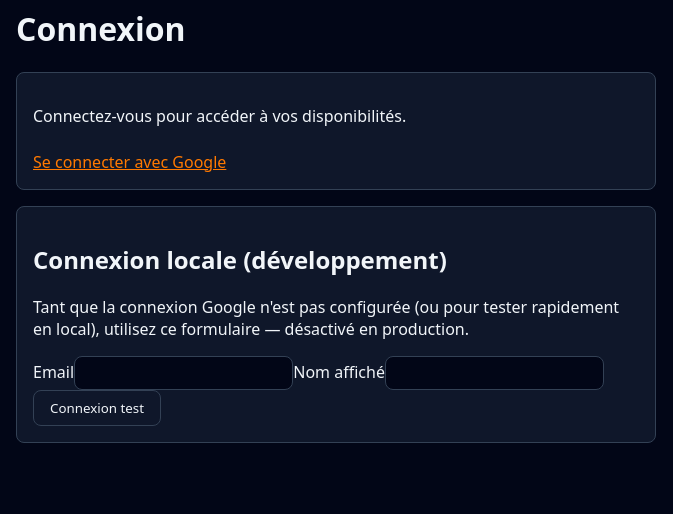
Test case: LoginPage › affiche un message d'erreur quand devLogin rejette
The width and height of the screenshot is (673, 514).
Type "joueur@example.com" into the field labelled "Email" at (184, 373), box [74,356,293,390]
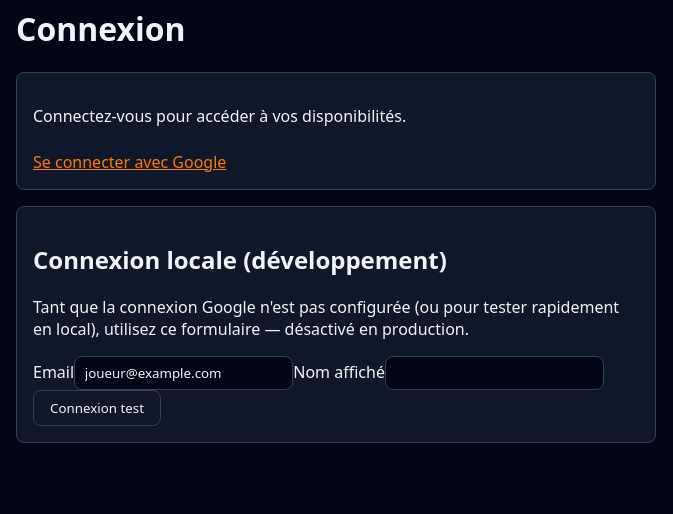
Type "Jean Joueur" into the field labelled "Nom affiché" at (495, 373), box [385,356,604,390]
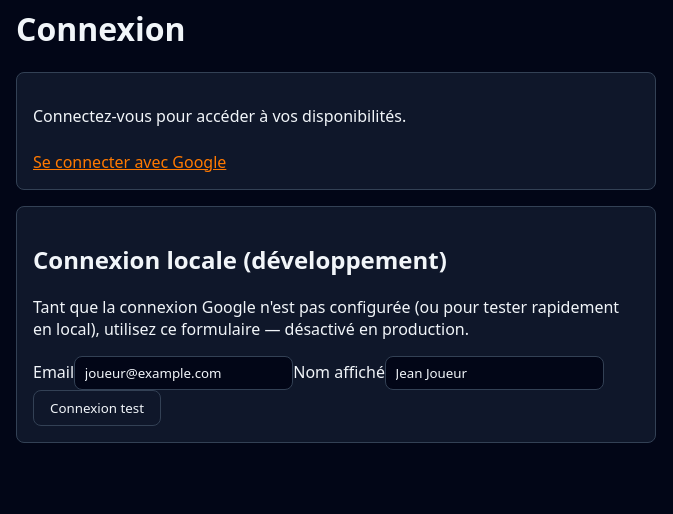
Click the button "Connexion test" at (97, 408), box [33,390,161,426]
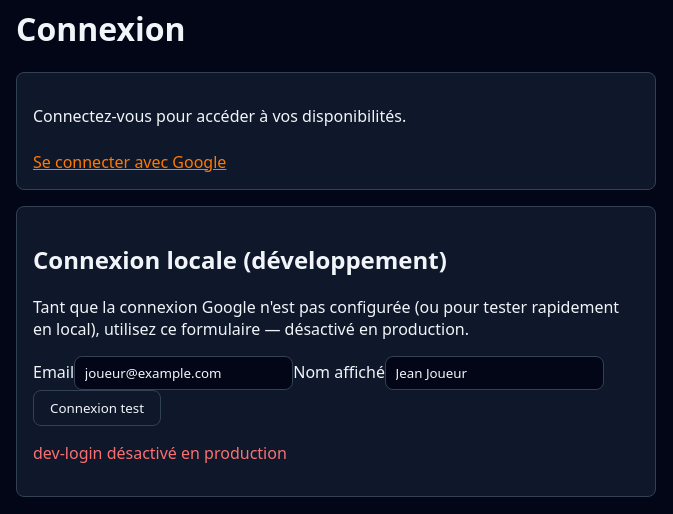
Check: the text "dev-login désactivé en production" is shown, box [33,442,287,464]
